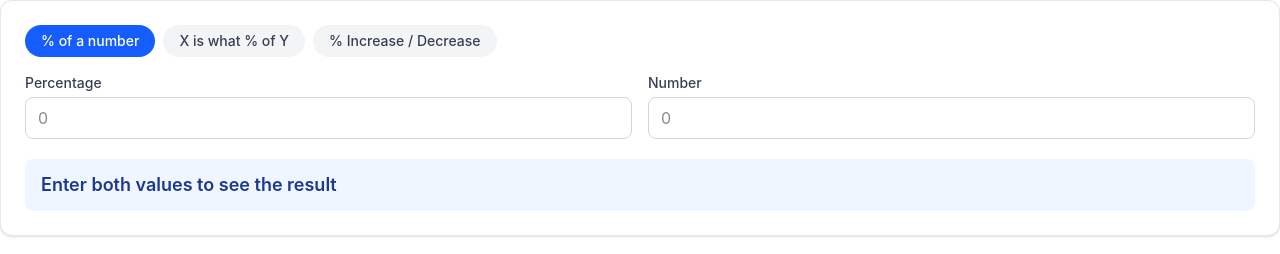
PercentageCalculator › calculates % of a number correctly
Type "20" into the number field labelled "Percentage" at (328, 118), box [25, 97, 632, 139]
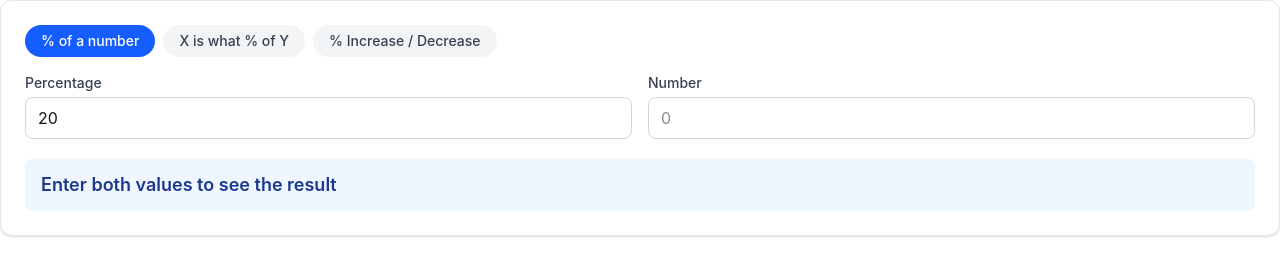
Type "150" into the number field labelled "Number" at (952, 118), box [648, 97, 1255, 139]
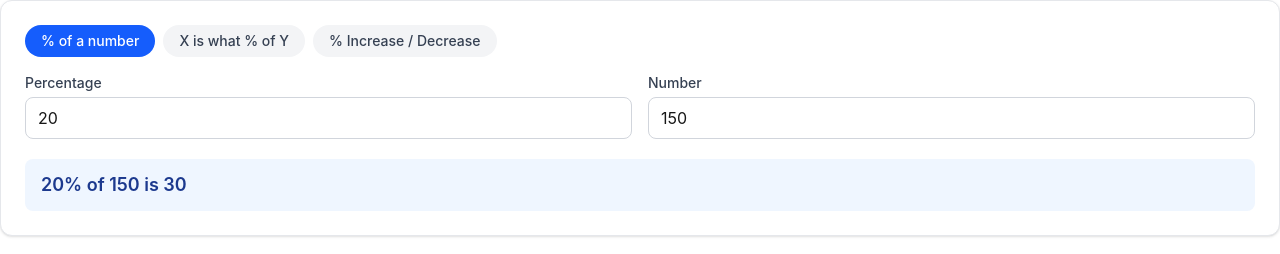
Now the text "20% of 150 is 30" is shown, box [25, 159, 1255, 211]
